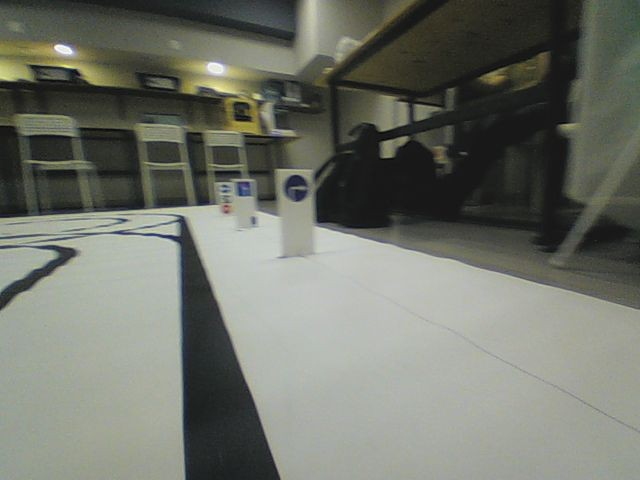Right: (283, 174, 309, 203)
